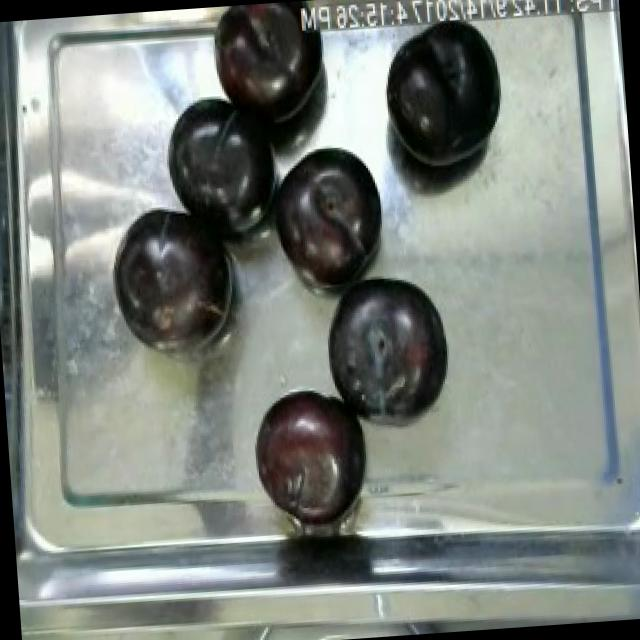Fruit: (107, 189, 246, 362), (373, 14, 512, 179), (319, 266, 457, 427), (266, 136, 392, 304), (246, 379, 372, 523), (206, 0, 314, 124)
